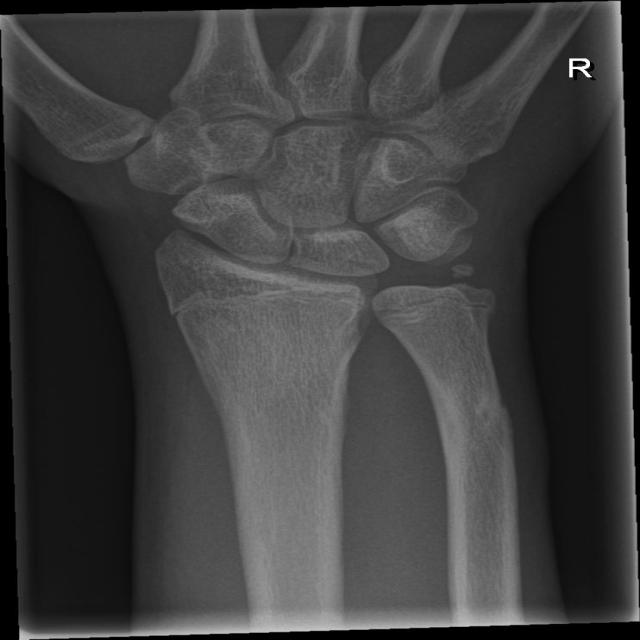fracture: (155, 266, 382, 340), (369, 284, 505, 334), (465, 390, 537, 432)
